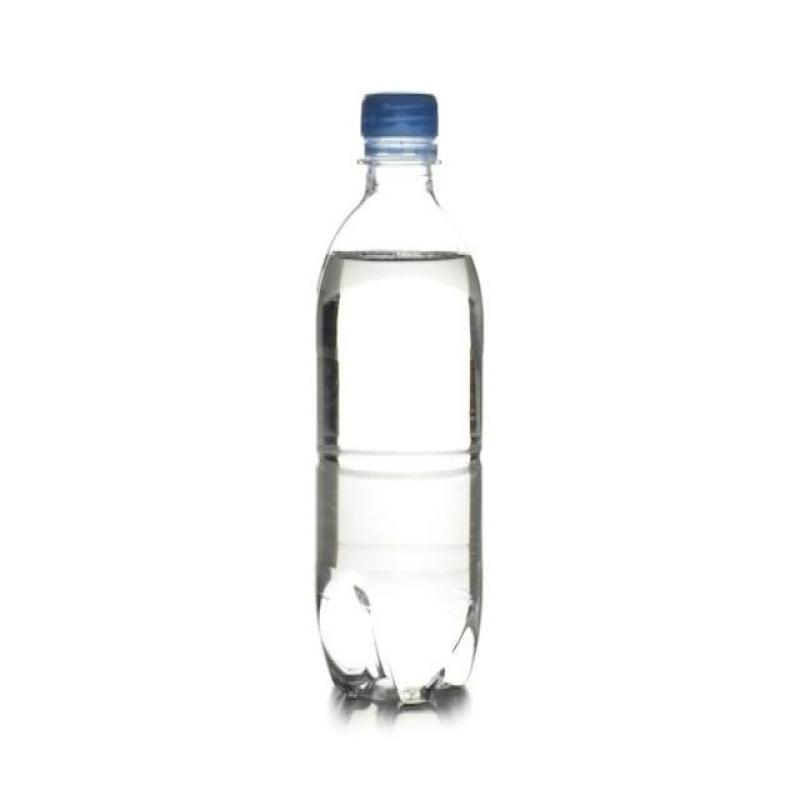botella: (318, 89, 482, 711)
